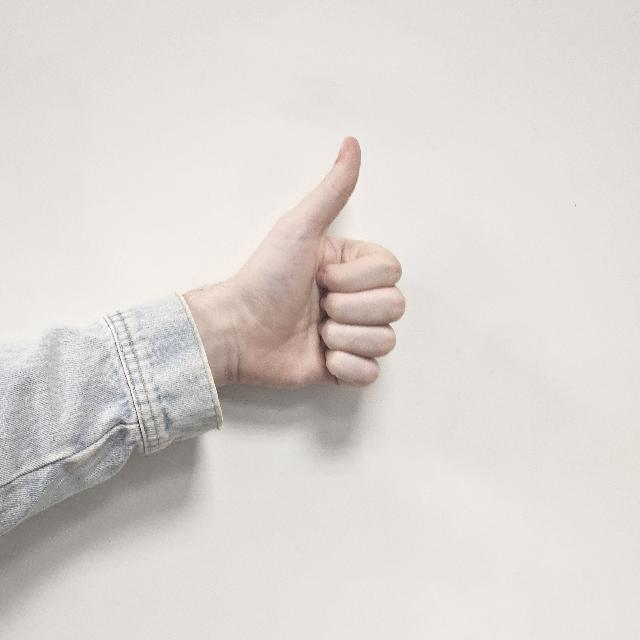Start: (190, 136, 402, 392)
